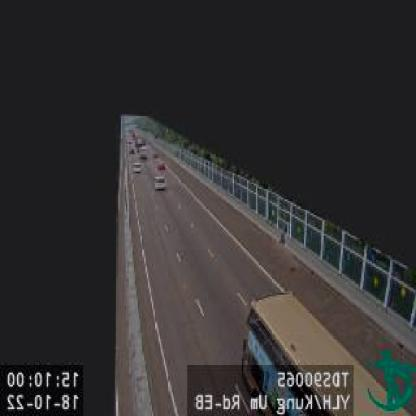Bus: (237, 292, 416, 416)
Car: (154, 175, 166, 191), (133, 162, 142, 174)
